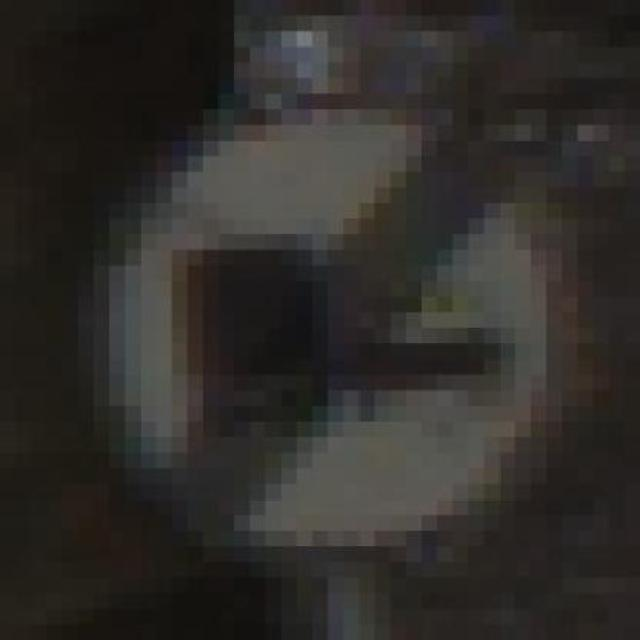Overtaking by trucks is prohibited: (31, 78, 594, 578)
